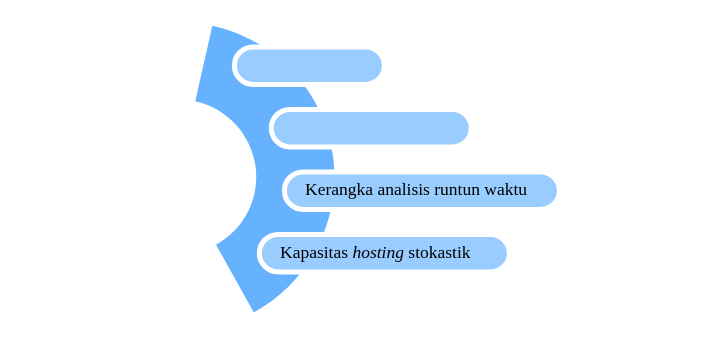
This 705x353 diagram has some shape labels left out. The box of each missing label's shape, as (x1, y1, x2, y2) in pixels:
Batas kinerja operasi: (268, 106, 473, 149)
Fungsi tujuan: (231, 44, 386, 86)
